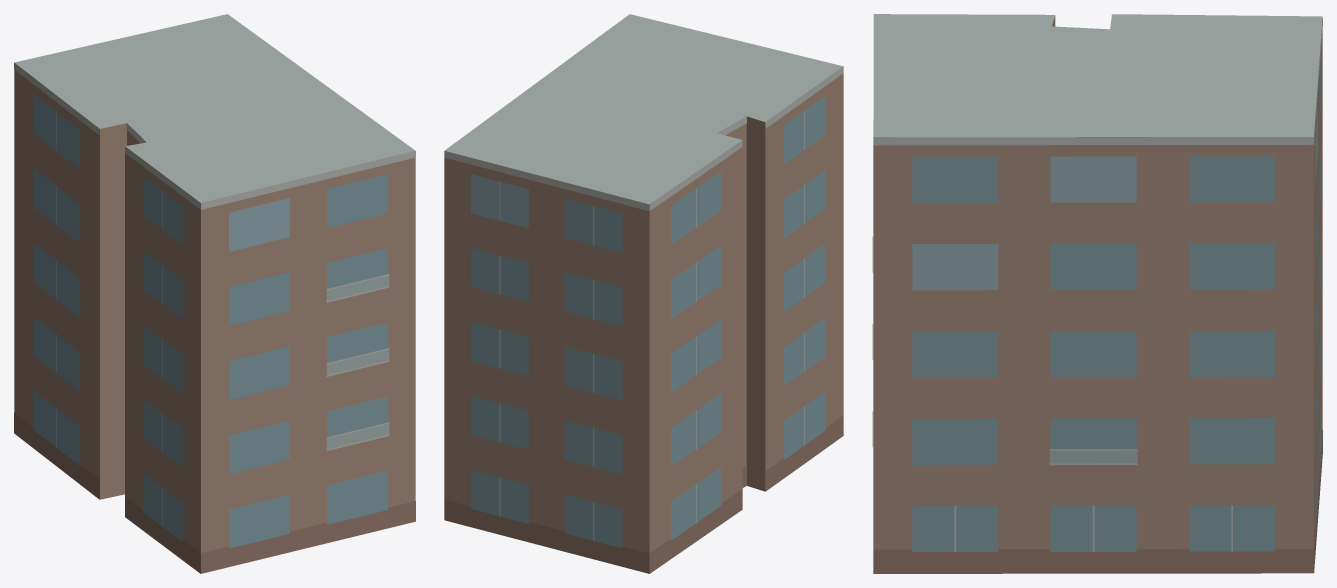
File: survey-upis-32643330.glb
3 views of the same model, side by side, from view 1: azimuth 30°, elevation 25°; view 2: azimuth 150°, elevation 25°; view 3: azimuth 270°, elevation 25° (orthographic). The views are drawn at different scales.
Visible parts, largest first — view 1: survey-upis-32643330.tmp; view 2: survey-upis-32643330.tmp; view 3: survey-upis-32643330.tmp.
Boxes of the visible parts, x1=… form: survey-upis-32643330.tmp: x1=14, y1=14, x2=415, y2=573; survey-upis-32643330.tmp: x1=444, y1=14, x2=843, y2=573; survey-upis-32643330.tmp: x1=872, y1=14, x2=1322, y2=573.
Bounding box in the file's own units: 8.09 × 13.3 × 12.45.
